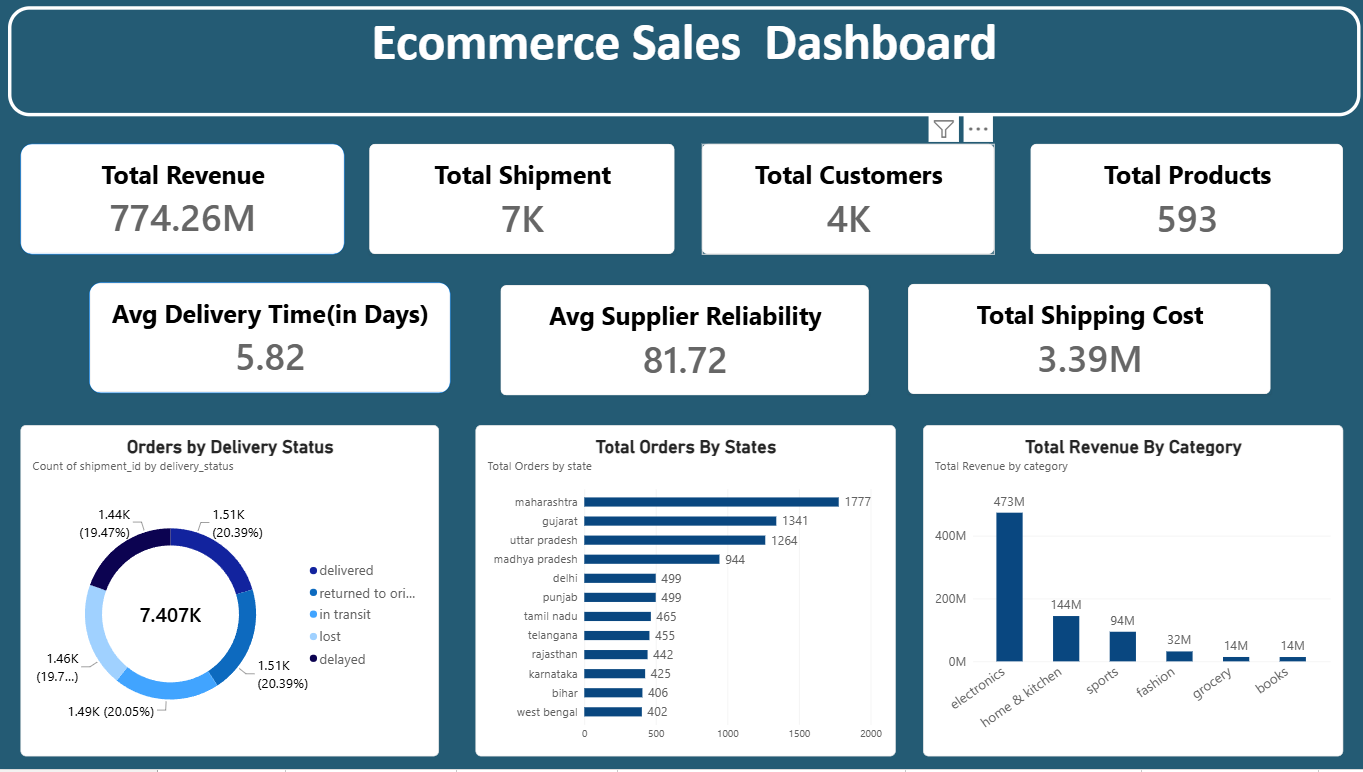

This screenshot's page, from the dashboard's own definition file:
{"tool":"powerbi","page":{"name":"Milestone 1","canvas":[1920,1080],"ordinal":0},"visuals":[{"type":"cardVisual","fields":{"Data":["fact_shipments.Total Shipment"]},"box":[518,208,426,154],"z":0},{"type":"textbox","box":[14.5,16.3,1887.5,153.8],"z":1000},{"type":"textbox","box":[83,423,336,154],"z":2000},{"type":"cardVisual","fields":{"Data":["fact_shipments.Average Delivery Time"]},"box":[128,402,504.3,154.4],"z":3000},{"type":"cardVisual","fields":{"Data":["Table Row Counts.Total Revenue"]},"box":[32,208,452,154],"z":4000},{"type":"cardVisual","fields":{"Data":["dim_suppliers.Average Supplier Reliability"]},"box":[702,404,514.6,154.4],"z":5000},{"type":"cardVisual","fields":{"Data":["dim_customers.Total Customers"]},"box":[982,208,408,154],"z":6000},{"type":"cardVisual","fields":{"Data":["dim_products.Total Products"]},"box":[1440,208,436,154],"z":7000},{"type":"cardVisual","fields":{"Data":["fact_shipments.Total Shipping Cost"]},"box":[1270,403.4,506.3,154.4],"z":8000},{"type":"donutChart","title":"Orders by Delivery Status","fields":{"Category":["fact_shipments.delivery_status"],"Y":["CountNonNull(fact_shipments.shipment_id)"]},"box":[32,600,584,462],"z":9000},{"type":"clusteredBarChart","title":"Total Orders By States","fields":{"Category":["dim_customers.state"],"Y":["fact_orders.total Orders"]},"box":[666,600,586,462],"z":10000},{"type":"columnChart","title":"Total Revenue By Category","fields":{"Y":["Table Row Counts.Total Revenue"],"Category":["dim_products.category"]},"box":[1290,600,586,462],"z":11000}]}

Visuals, with their boxes in screenshot pixels (x1, y1, x2, y2), scaled from the page's 1920x1080 canvas onto the 1363x772 screenshot:
cardVisual - fact_shipments.Total Shipment: left=368, top=149, right=670, bottom=259
textbox: left=10, top=12, right=1350, bottom=122
textbox: left=59, top=302, right=297, bottom=412
cardVisual - fact_shipments.Average Delivery Time: left=91, top=287, right=449, bottom=398
cardVisual - Table Row Counts.Total Revenue: left=23, top=149, right=344, bottom=259
cardVisual - dim_suppliers.Average Supplier Reliability: left=498, top=289, right=864, bottom=399
cardVisual - dim_customers.Total Customers: left=697, top=149, right=987, bottom=259
cardVisual - dim_products.Total Products: left=1022, top=149, right=1332, bottom=259
cardVisual - fact_shipments.Total Shipping Cost: left=902, top=288, right=1261, bottom=399
"Orders by Delivery Status" donutChart: left=23, top=429, right=437, bottom=759
"Total Orders By States" clusteredBarChart: left=473, top=429, right=889, bottom=759
"Total Revenue By Category" columnChart: left=916, top=429, right=1332, bottom=759
